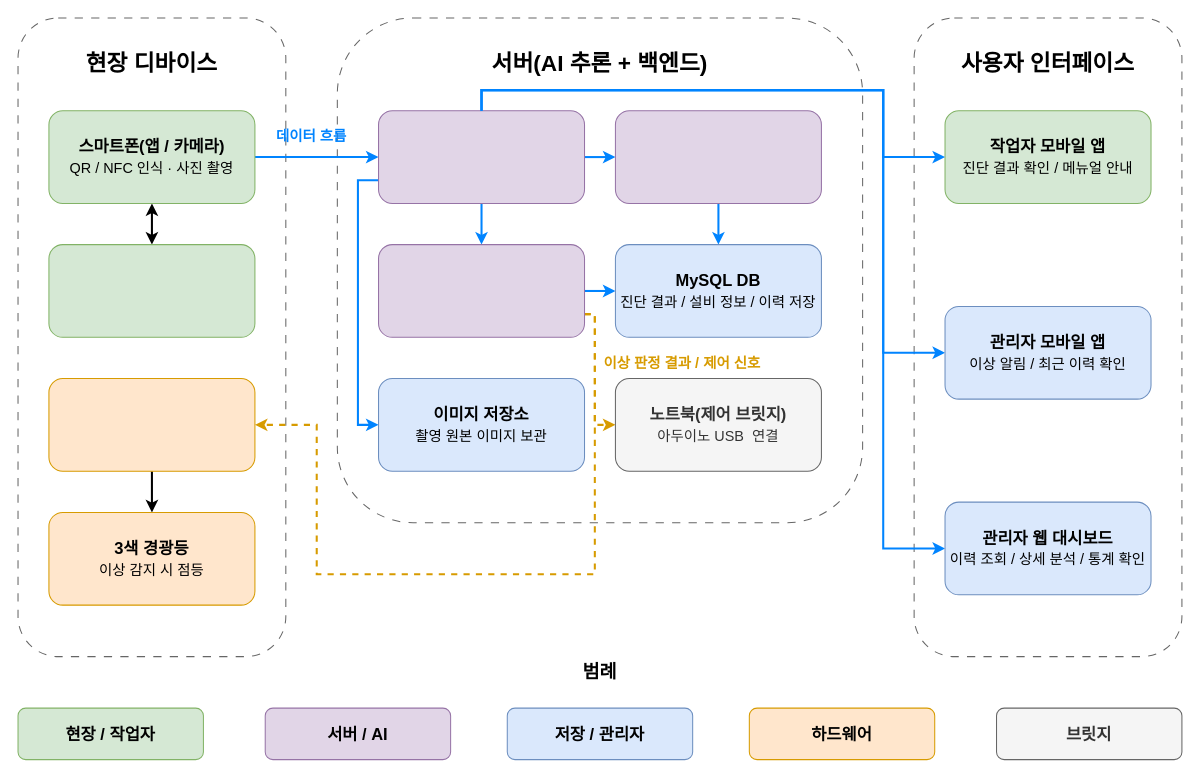
Some shapes in this 1200 by 778 pixel diagram are drawn without their labels. The shapes that lost their labels are listed below. From the top down, each one's box as (x1, y1, x2, y2) in pixels, then its label:
(377, 110, 585, 203): Flask 서버 API 요청 처리 / 응답
(614, 110, 821, 203): YOLOv8 부품 + 불량 감지
(48, 244, 255, 337): QR / NFC 태그 분전반 식별 정보 제공
(377, 244, 585, 337): Gemini API 진단 + 메뉴얼 생성
(48, 377, 255, 471): Arduino Uno 경광등 릴레이 제어
